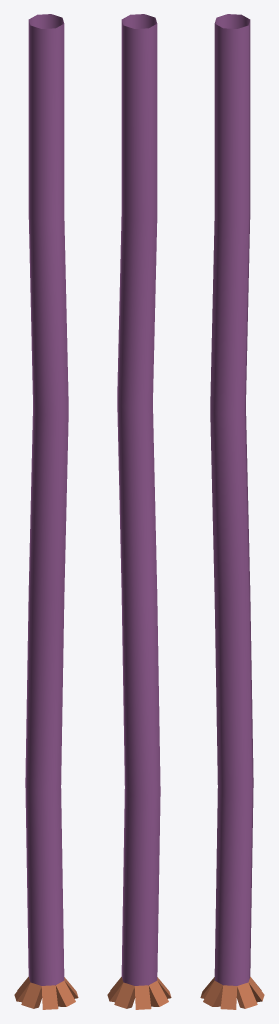
The model's file is Broken_purple.fbx.
3 views of the same model, side by side, from view 1: azimuth 30°, elevation 25°; view 2: azimuth 210°, elevation 25°; view 3: azimuth 330°, elevation 25° (orthographic).
Parts seen in each view (by area): view 1: pCylinder1; view 2: pCylinder1; view 3: pCylinder1.
Boxes of the visible parts, left/top/right/bottom form: pCylinder1: left=14, top=14, right=78, bottom=1009; pCylinder1: left=107, top=14, right=171, bottom=1009; pCylinder1: left=200, top=14, right=264, bottom=1009.
Bounding box in the file's own units: 1.1 × 18.63 × 1.1.
